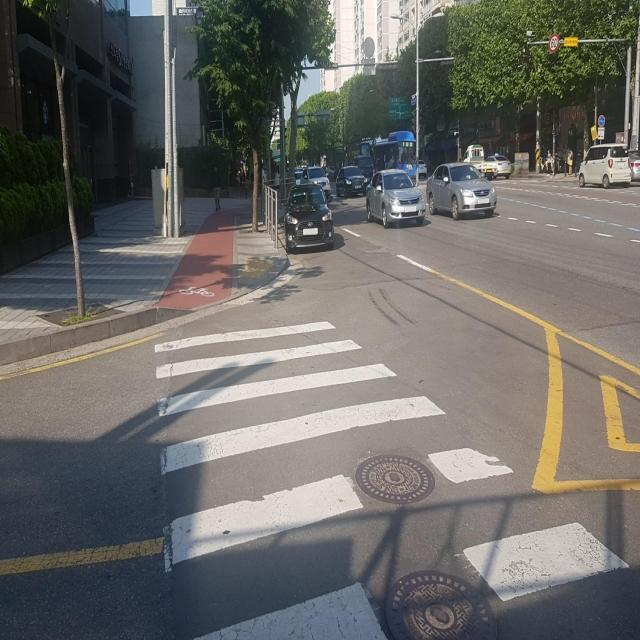횡단보도: (152, 320, 630, 640)
